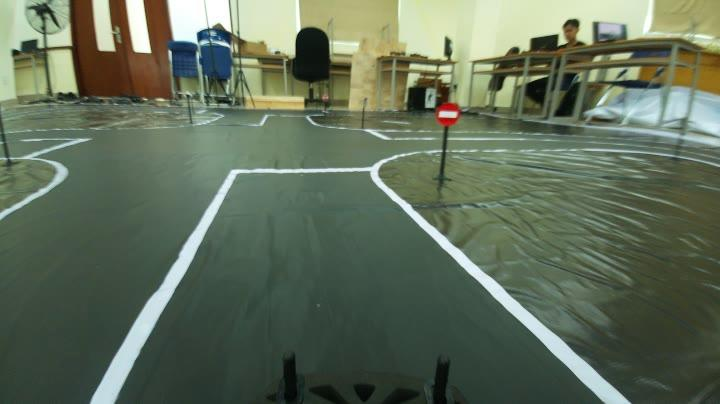no_entry: (428, 97, 470, 134)
